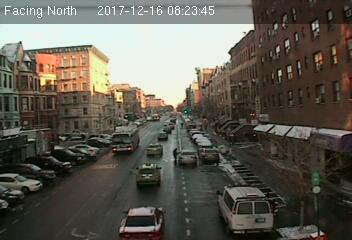bus: (111, 126, 140, 152)
car: (119, 205, 167, 239), (135, 161, 161, 184), (179, 149, 197, 165), (201, 148, 219, 163), (146, 142, 162, 155), (157, 131, 167, 139)
police: (215, 182, 274, 235)
